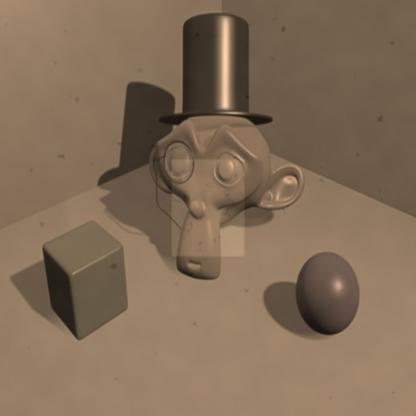Ball: (294, 251, 360, 333)
